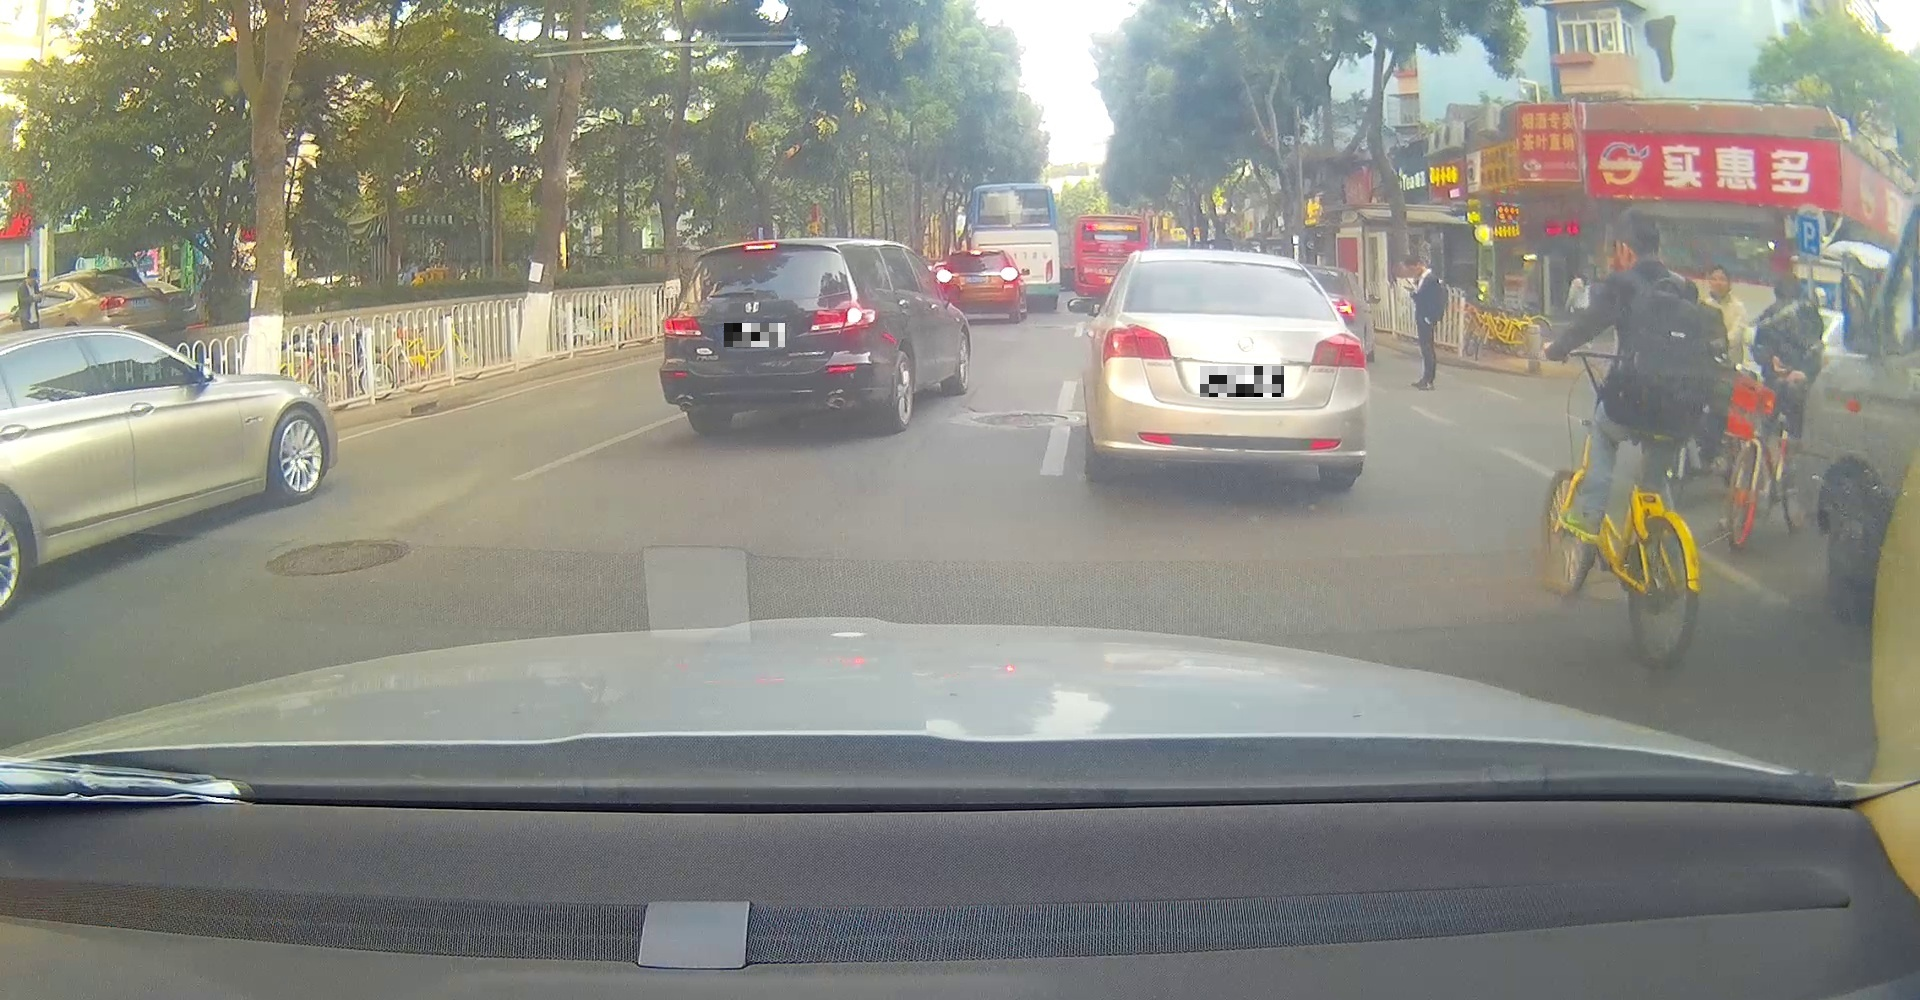L_light: (1101, 324, 1173, 367), (663, 316, 701, 336)
R_light: (1310, 332, 1366, 368), (809, 307, 876, 332)
T_light: (745, 242, 776, 251), (1211, 261, 1243, 266)
day-brake: (658, 239, 886, 437)
day-no: (1092, 250, 1368, 490)
plate_1: (724, 324, 785, 346)
plate_2: (1200, 365, 1284, 397)
